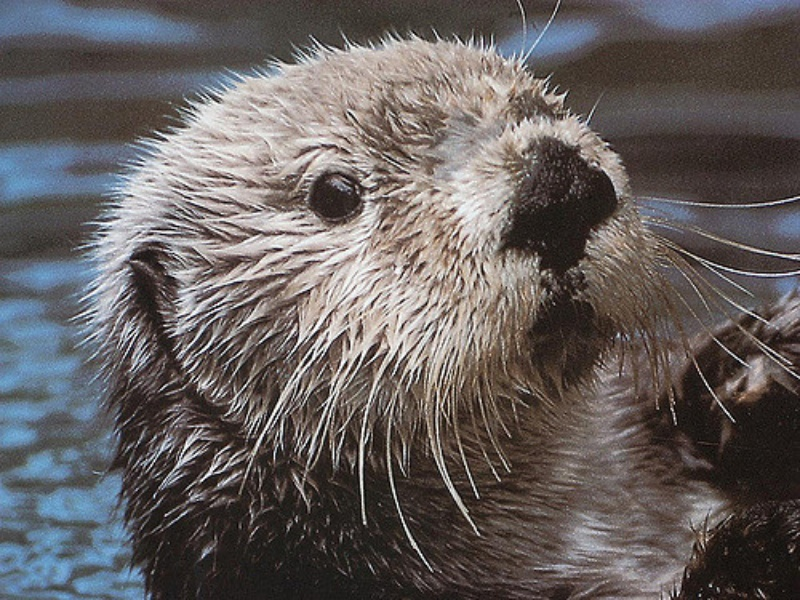minkish: (95, 44, 675, 588)
